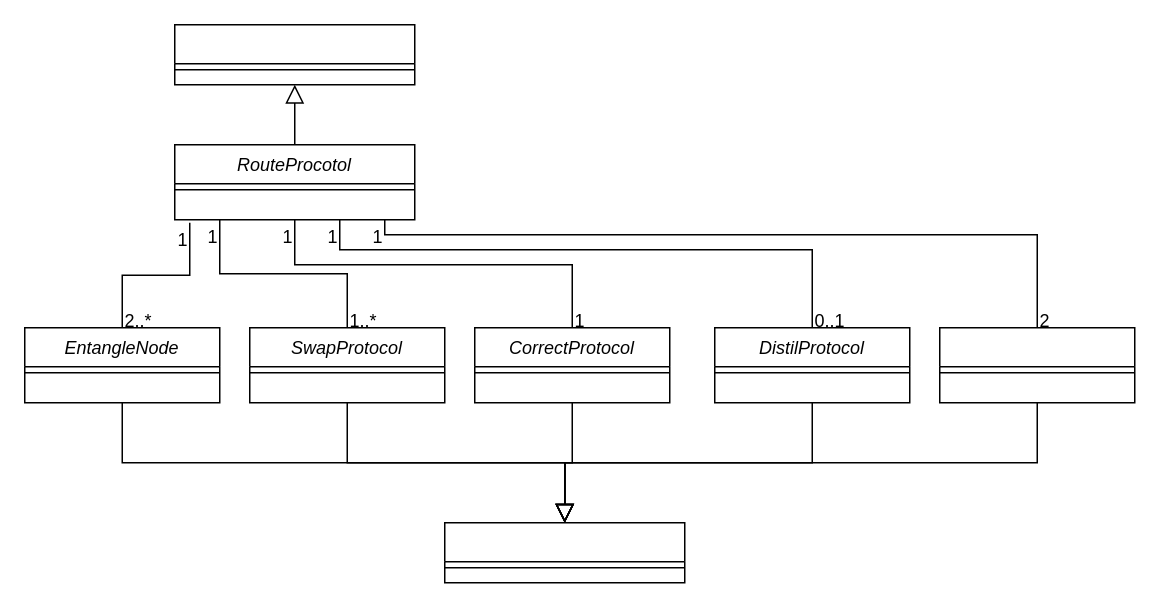
The diagram is 1160 pixels wide and 608 high, and some of its shapes have lost their labels. Each missing label, with the centre of its shape:
"LocalProtocol" belongs at [294,54].
"NodeProtocol" belongs at [564,552].
"TeleportProtocol" belongs at [1036,364].
